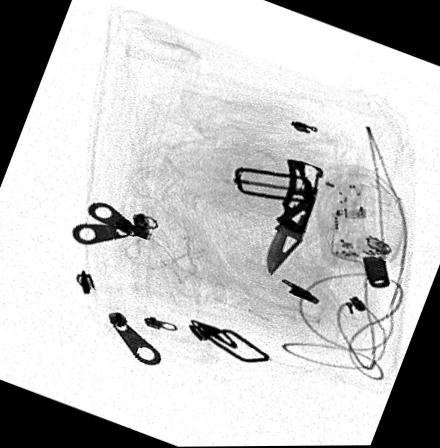Knife: (264, 157, 325, 277)
